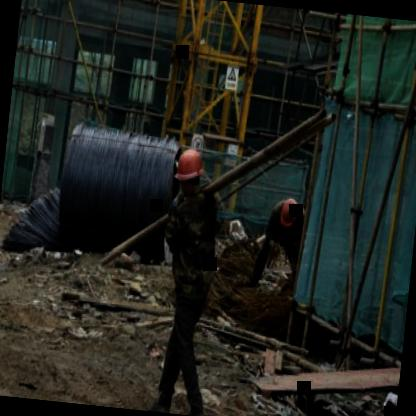helmet: (168, 143, 208, 200), (274, 194, 304, 235)
